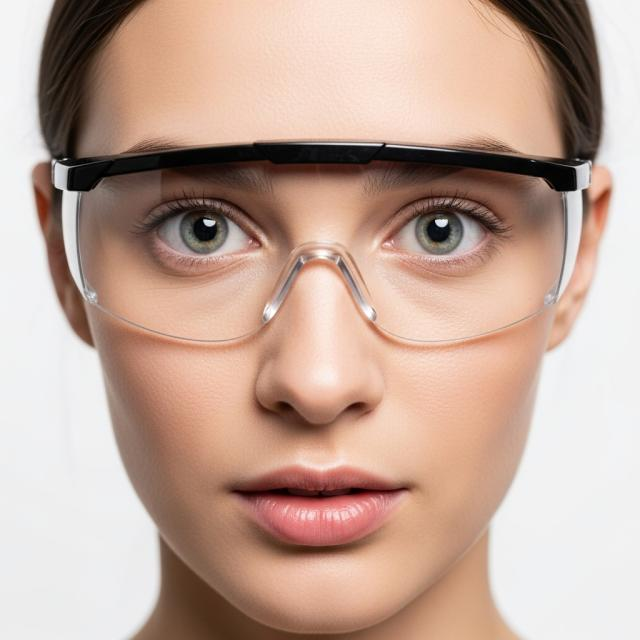oculos-epi: (52, 141, 590, 342)
